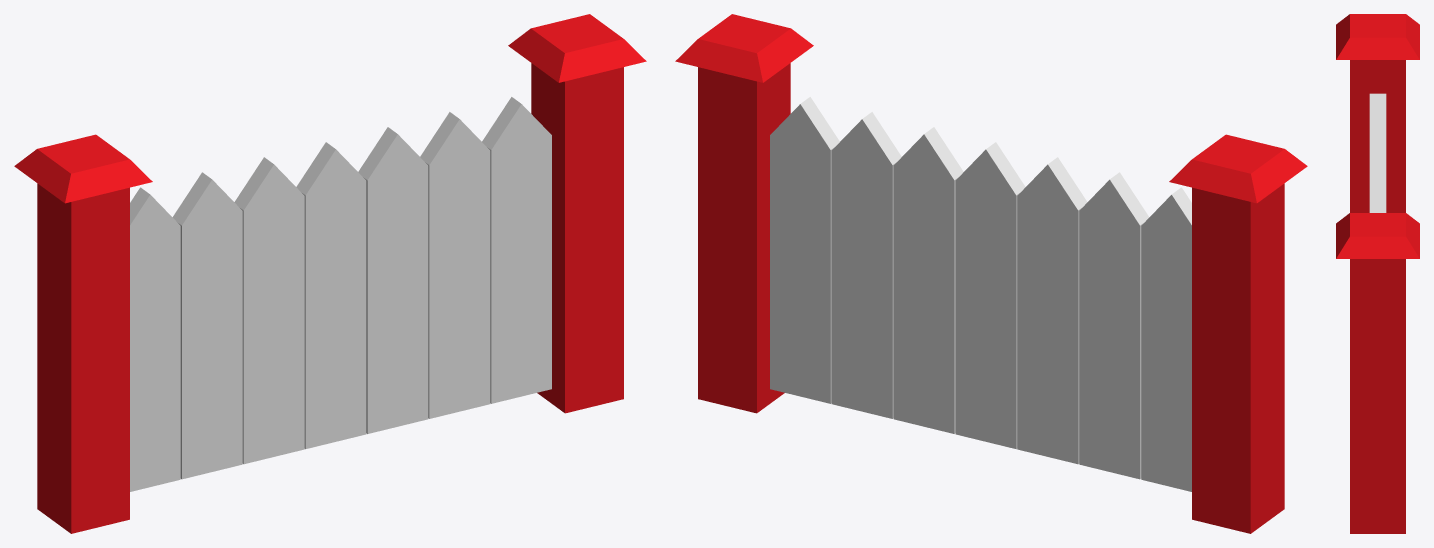
The model's file is Fence_wall_1.FBX.
3 renders of one model, left to right at view 1: azimuth 30°, elevation 25°; view 2: azimuth 150°, elevation 25°; view 3: azimuth 270°, elevation 25°, orthographic. The views are drawn at different scales.
Parts seen in each view (by area): view 1: Fence_wall_1; view 2: Fence_wall_1; view 3: Fence_wall_1.
Boxes of the visible parts, left/top/right/bottom form: Fence_wall_1: left=14, top=14, right=646, bottom=533; Fence_wall_1: left=675, top=14, right=1307, bottom=533; Fence_wall_1: left=1336, top=14, right=1419, bottom=533.
Bounding box in the file's own units: 1.46 × 0.8655 × 0.2213.
1 material, 1 textured.
